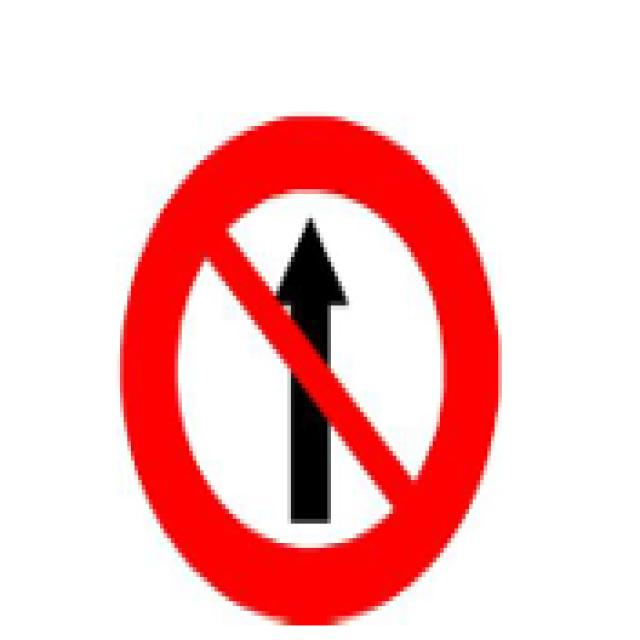Bien bao cam di thang: (84, 79, 538, 636)
